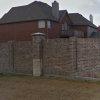Chimney: (49, 0, 69, 22)
